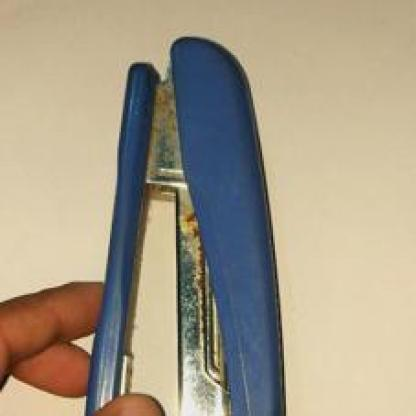stapler: (50, 28, 355, 416)
